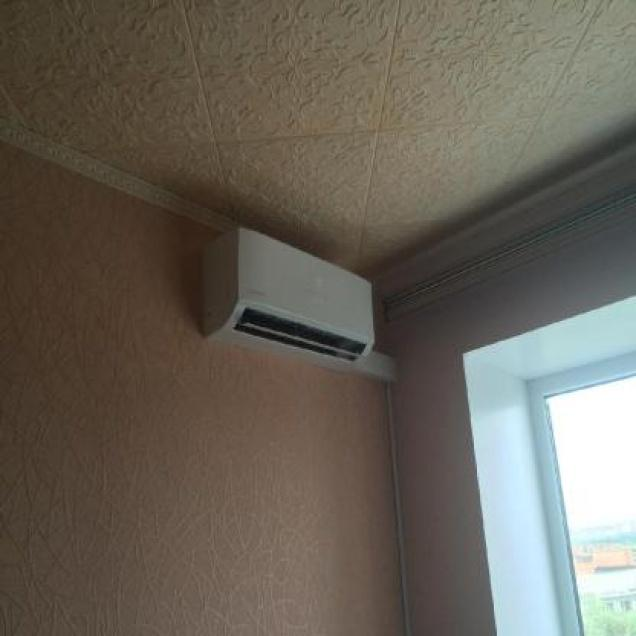AC: (200, 226, 374, 374)
